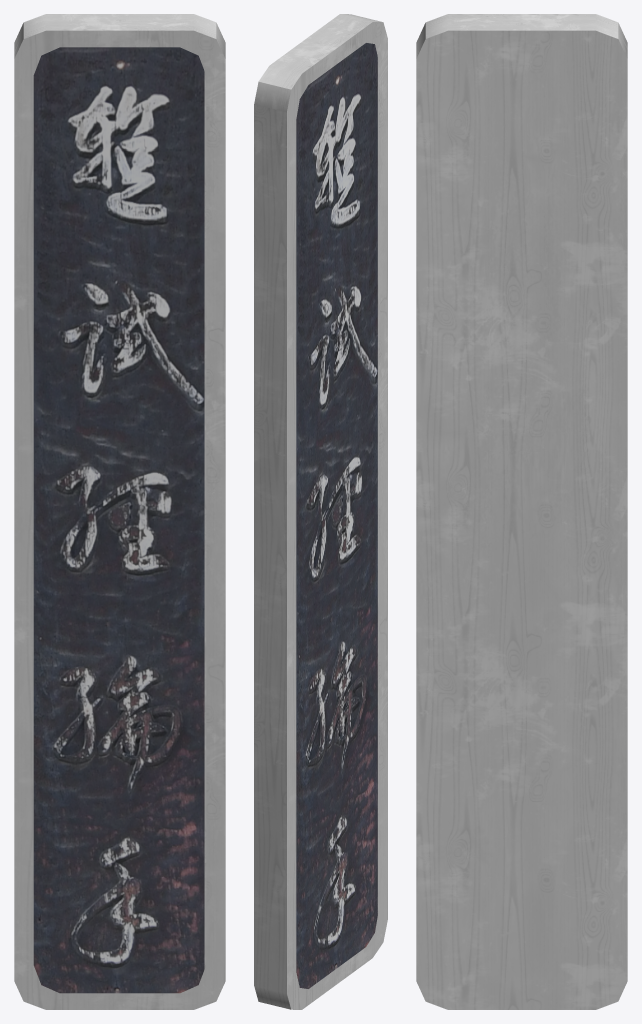
File: SM_R_Yuyotaek6.fbx
3 renders of one model, left to right at view 1: azimuth 90°, elevation 25°; view 2: azimuth 150°, elevation 25°; view 3: azimuth 270°, elevation 25°, orthographic. The views are drawn at different scales.
Parts seen in each view (by area): view 1: SM_R_Yuyotaek6; view 2: SM_R_Yuyotaek6; view 3: SM_R_Yuyotaek6.
Boxes of the visible parts, bbox=[...] form: SM_R_Yuyotaek6: bbox=[14, 14, 225, 1009]; SM_R_Yuyotaek6: bbox=[254, 14, 387, 1009]; SM_R_Yuyotaek6: bbox=[416, 14, 627, 1009].
Bounding box in the file's own units: 3.97 × 21.22 × 108.
1 material, 1 textured.
